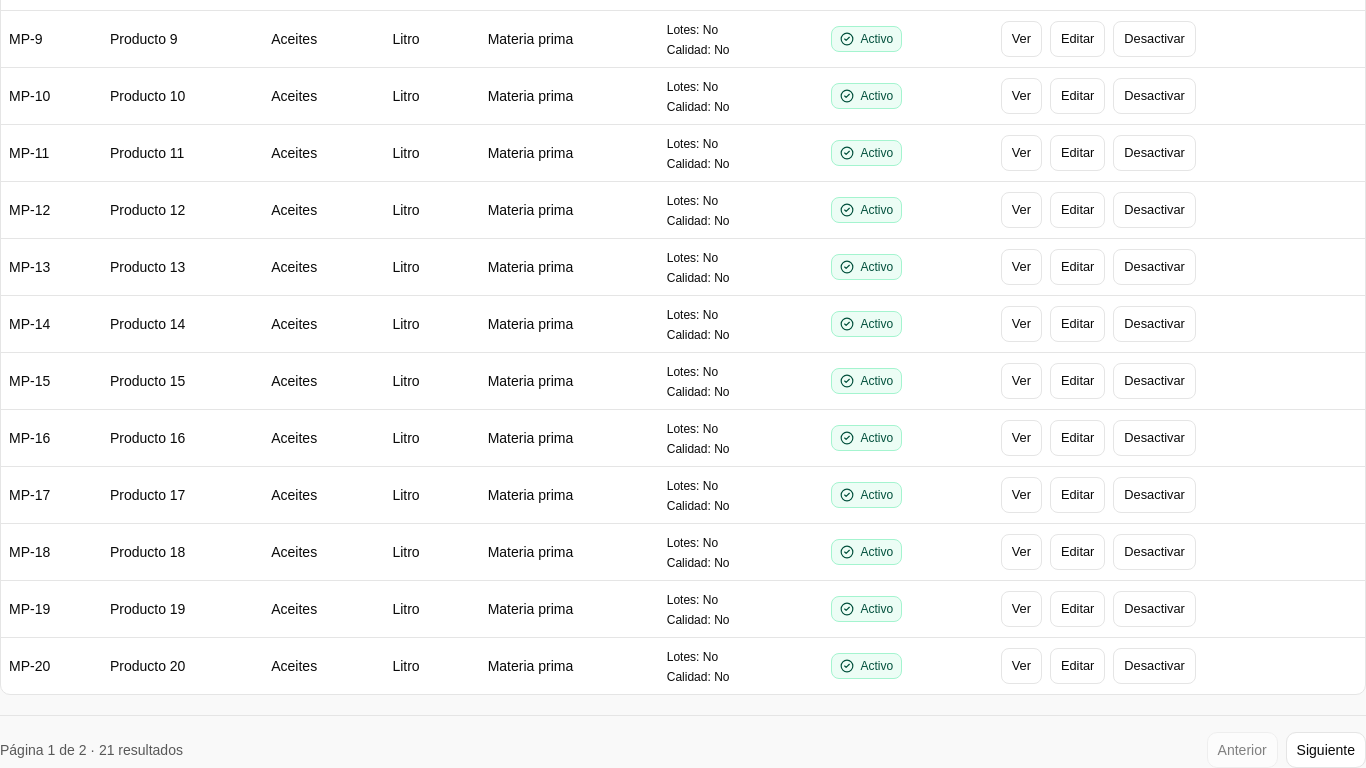
Test case: Productos: interfaz de Inventario › consulta la página siguiente en el servidor
The width and height of the screenshot is (1366, 768).
(page scrolled)
Click the button "Siguiente" at (1326, 750), box [1286,732,1365,767]
(page scrolled)
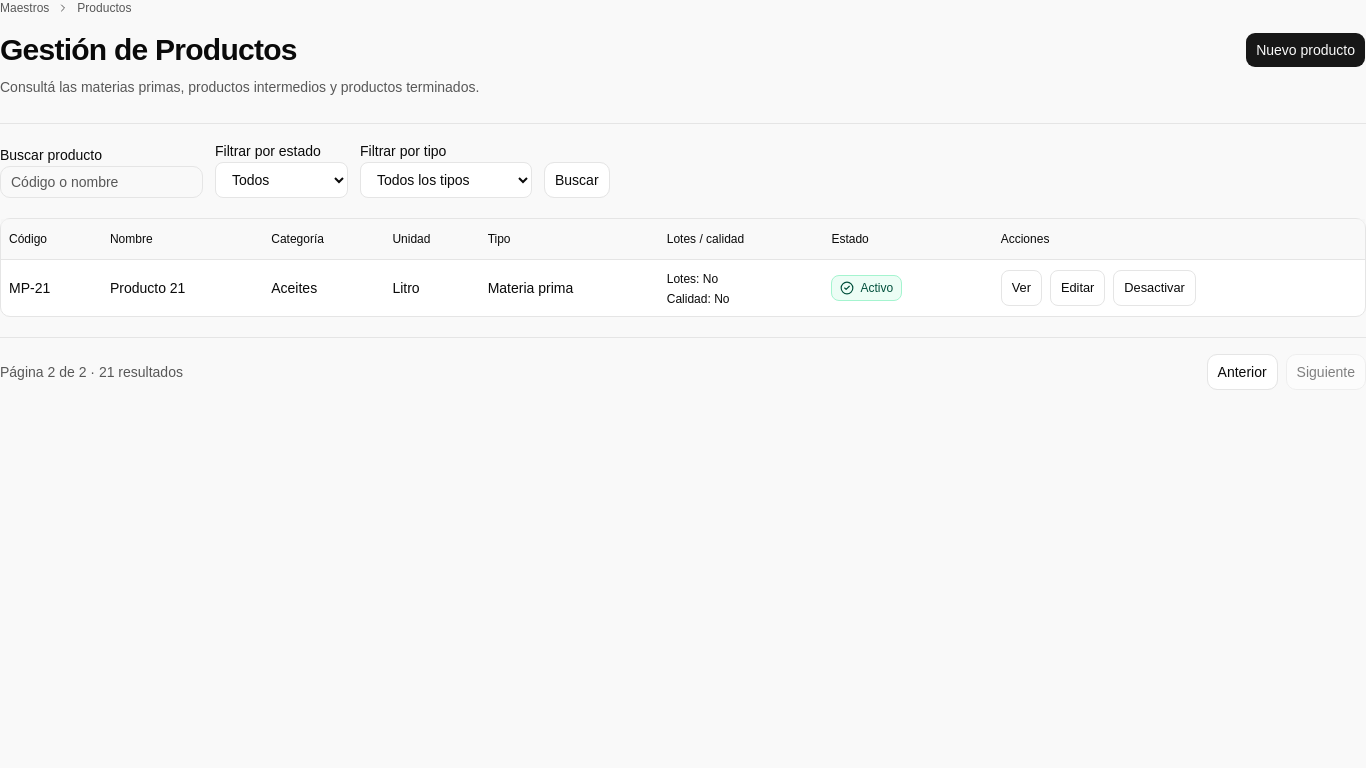
Expected: the text "Producto 21" is shown, [102,259,263,316]
Expected: the text "Producto 1" is gone
Expected: the text "Página 2 de 2 · 21 resultados" is shown, [0,362,183,382]
